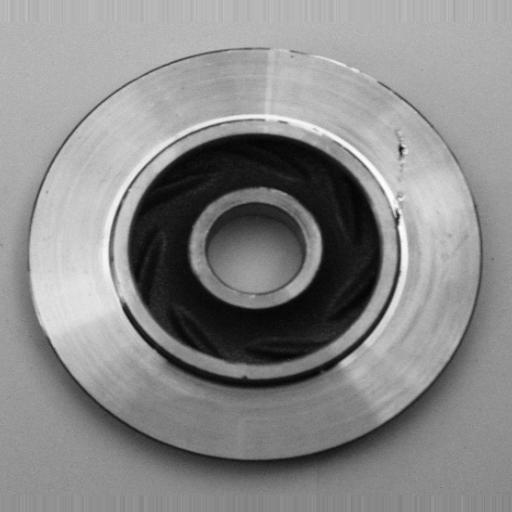crack: (382, 125, 418, 235)
scratch: (252, 100, 345, 145)
unpolished_casting: (28, 46, 483, 463)
